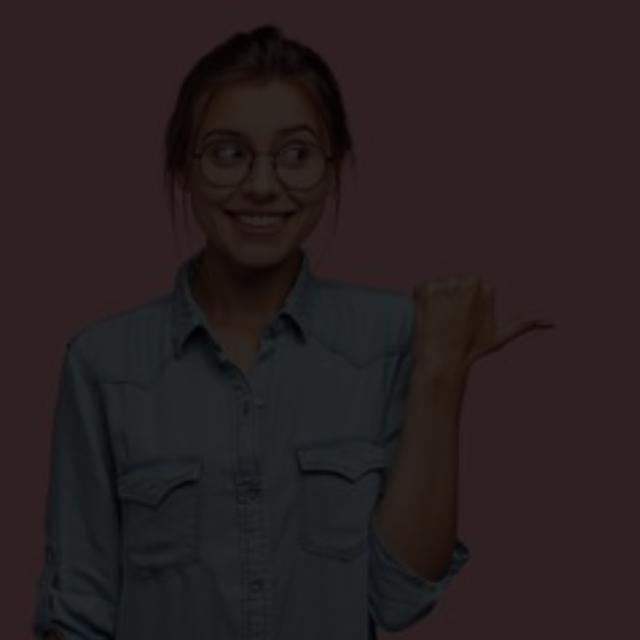Happy: (147, 77, 363, 282)
